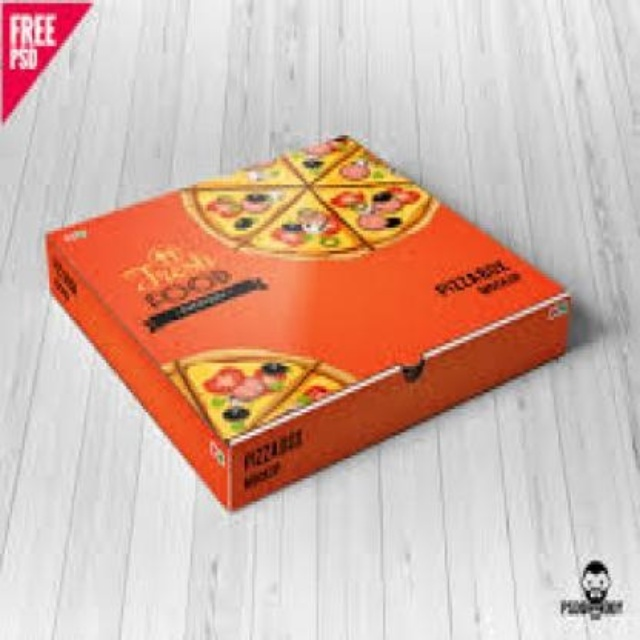trash: (48, 137, 569, 508)
